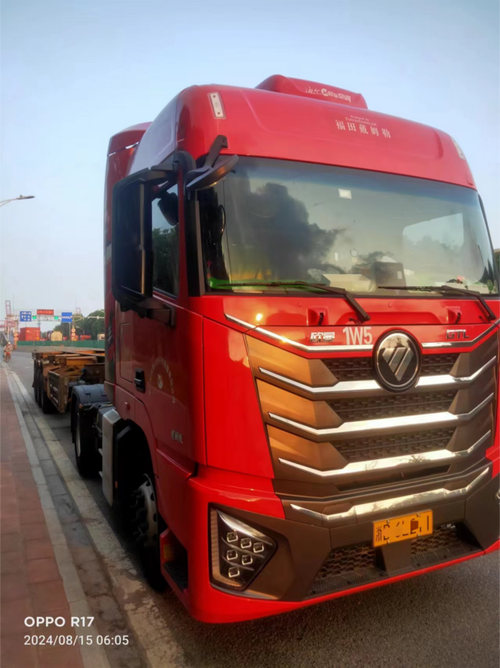卡车: (22, 59, 500, 647)
